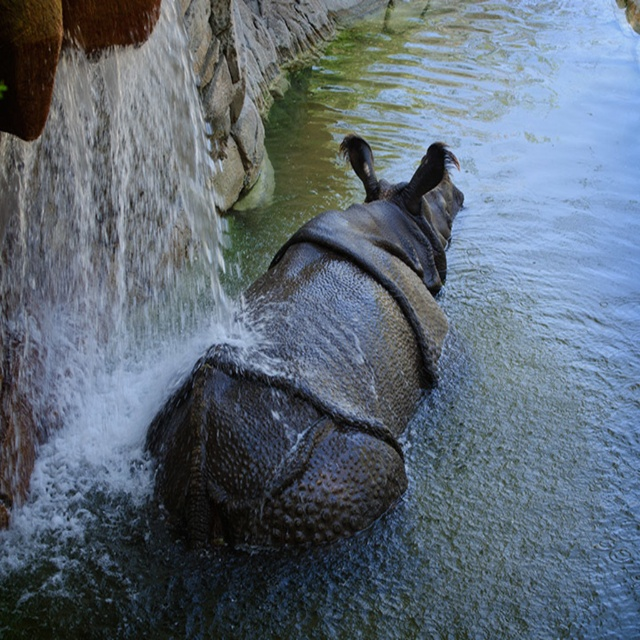Hippopotamus: (143, 136, 467, 553)
